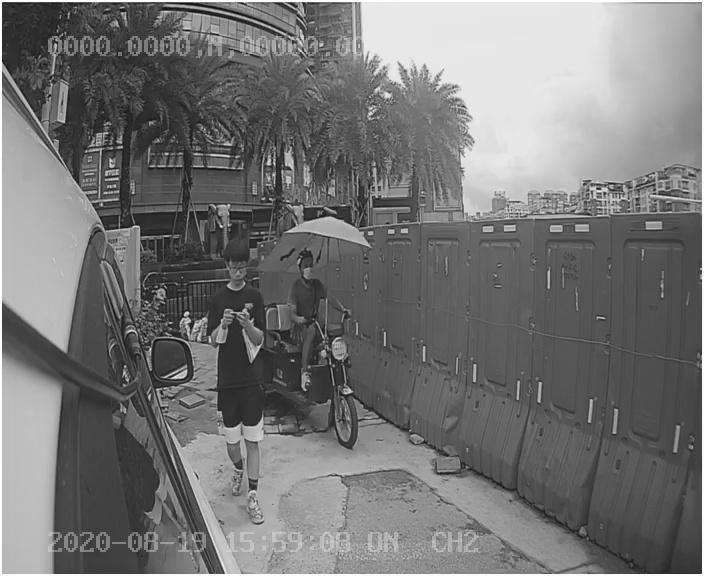person: (202, 238, 290, 529)
